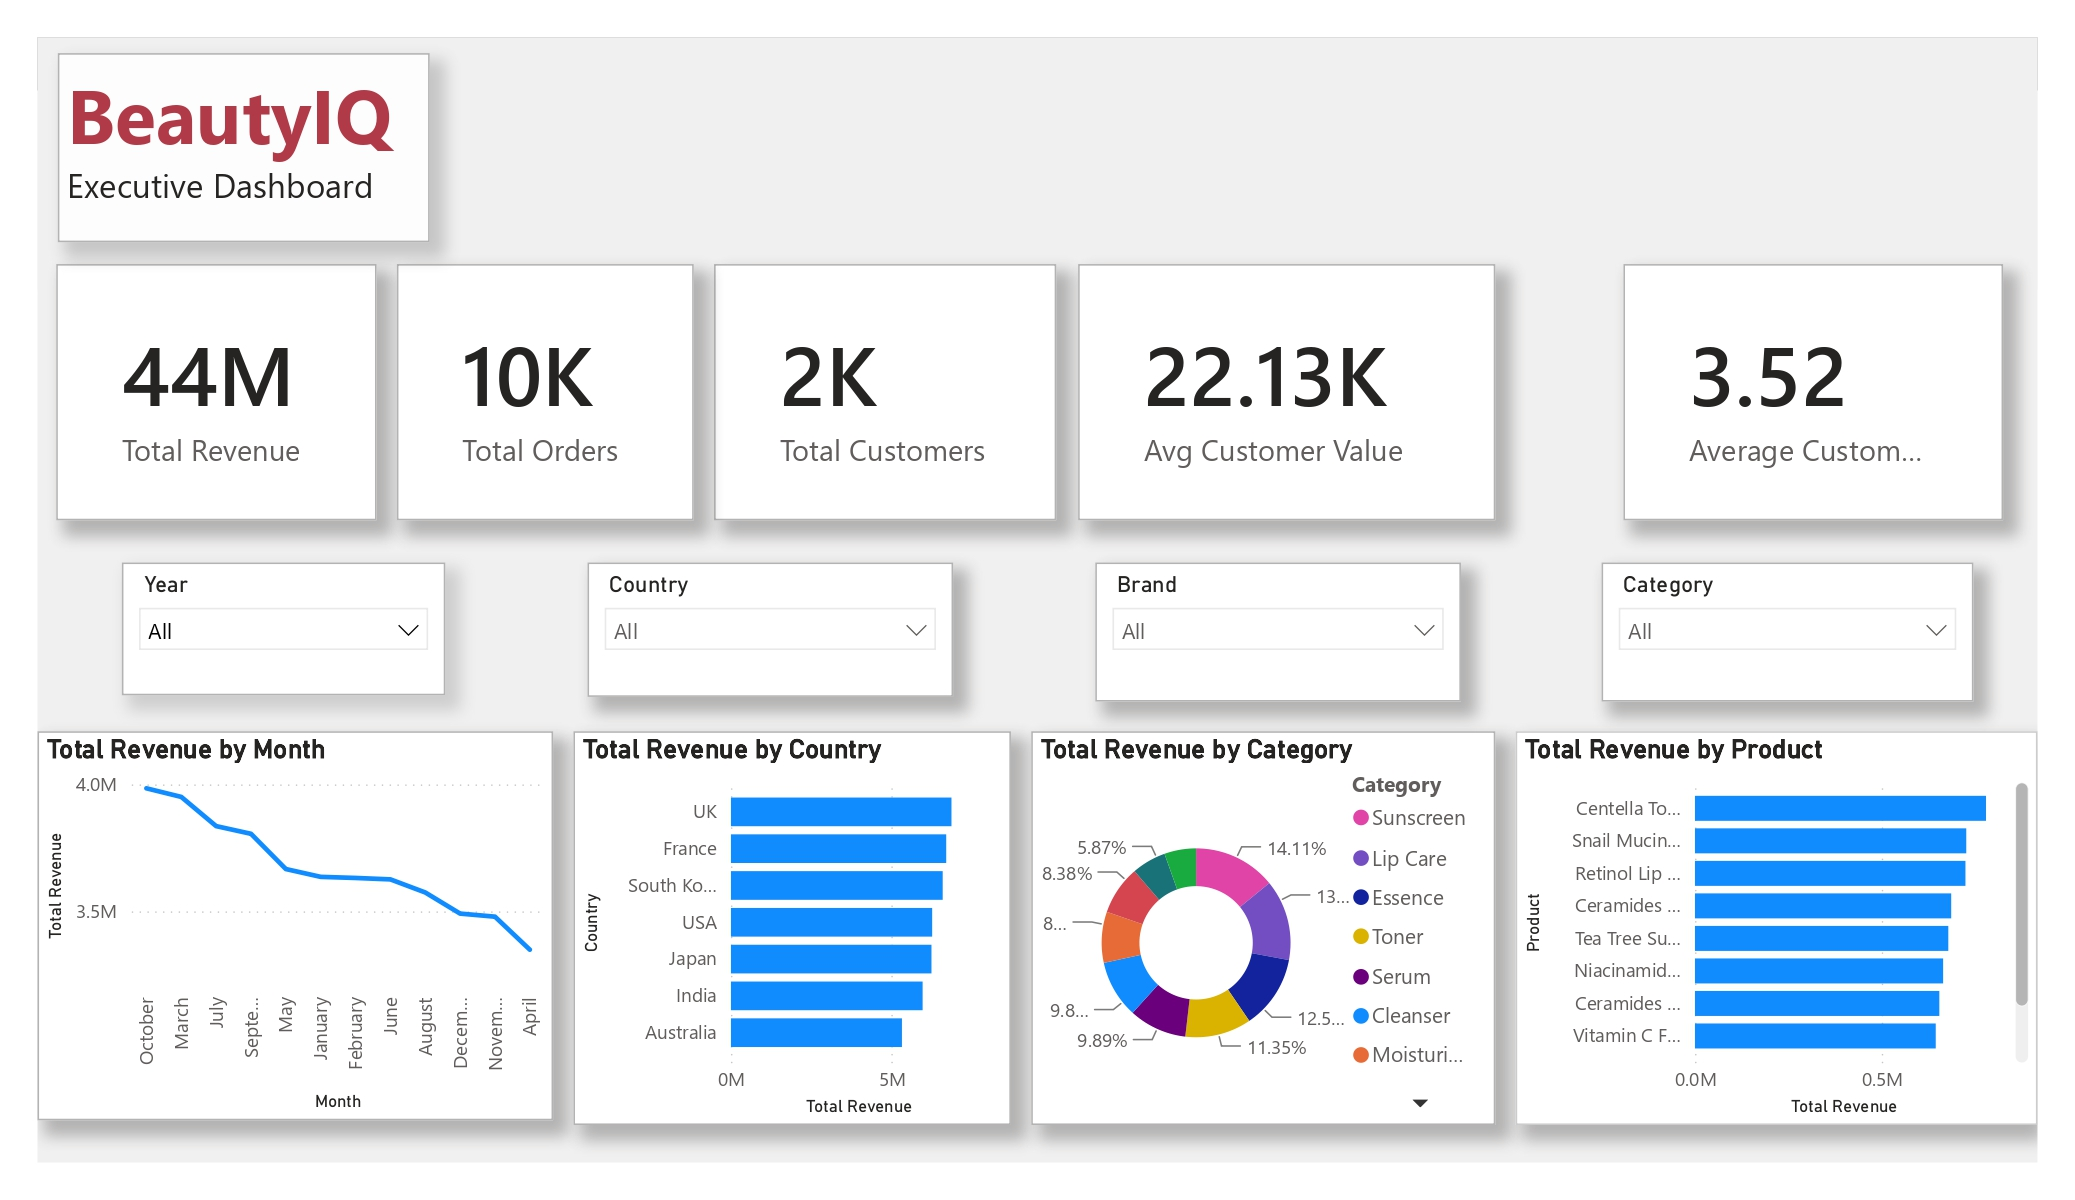

The page's visual inventory and layout, read from the dashboard file:
{"tool":"powerbi","page":{"name":"Executive Dashboard","canvas":[1280,720],"ordinal":0},"visuals":[{"type":"cardVisual","fields":{"Data":["FactSales.Total Revenue"]},"box":[12.3,145.5,204.5,163.3],"z":0},{"type":"cardVisual","fields":{"Data":["FactSales.Total Customers"]},"box":[432.9,145.5,219.6,163.3],"z":1000},{"type":"cardVisual","fields":{"Data":["DimBrand.Average Revenue per Customer"]},"box":[665.5,145.5,267.6,163.3],"z":2000},{"type":"cardVisual","fields":{"Data":["FactReviews.Average Rating"]},"box":[1015.4,145.5,242.9,163.3],"z":3000},{"type":"cardVisual","fields":{"Data":["FactSales.Total Orders"]},"box":[229.5,145.5,190.7,163.3],"z":4000},{"type":"textbox","box":[12.9,10,238.6,121.4],"z":5000},{"type":"lineChart","fields":{"Y":["FactSales.Total Revenue"],"Category":["DimDate.Month"]},"box":[0,444.3,330,248.6],"z":6000},{"type":"clusteredBarChart","fields":{"Category":["DimCountry.Country"],"Y":["FactSales.Total Revenue"]},"box":[342.9,444.3,280,251.4],"z":7000},{"type":"donutChart","fields":{"Category":["DimProduct.Category"],"Y":["FactSales.Total Revenue"]},"box":[635.7,444.3,297.1,251.4],"z":8000},{"type":"clusteredBarChart","fields":{"Category":["DimProduct.Product"],"Y":["FactSales.Total Revenue"]},"box":[945.7,444.3,334.3,251.4],"z":9000},{"type":"slicer","fields":{"Values":["DimDate.Year"]},"box":[54.3,336.3,207.1,84.3],"z":10000},{"type":"slicer","fields":{"Values":["DimCountry.Country"]},"box":[351.9,336.3,234.3,85.7],"z":11000},{"type":"slicer","fields":{"Values":["DimBrand.Brand"]},"box":[676.7,336.3,234.3,88.6],"z":12000},{"type":"slicer","fields":{"Values":["DimProduct.Category"]},"box":[1001.4,336.3,237.1,88.6],"z":13000}]}

Visuals, with their boxes on the page's 1280x720 design canvas (x1, y1, x2, y2). These are canvas units, not pixel positions in the 2075x1200 screenshot, which may show the page scaled, cropped or inside an application window:
cardVisual - FactSales.Total Revenue: bbox=[12, 146, 217, 309]
cardVisual - FactSales.Total Customers: bbox=[433, 146, 652, 309]
cardVisual - DimBrand.Average Revenue per Customer: bbox=[666, 146, 933, 309]
cardVisual - FactReviews.Average Rating: bbox=[1015, 146, 1258, 309]
cardVisual - FactSales.Total Orders: bbox=[230, 146, 420, 309]
textbox: bbox=[13, 10, 252, 131]
lineChart - FactSales.Total Revenue x DimDate.Month: bbox=[0, 444, 330, 693]
clusteredBarChart - DimCountry.Country x FactSales.Total Revenue: bbox=[343, 444, 623, 696]
donutChart - DimProduct.Category x FactSales.Total Revenue: bbox=[636, 444, 933, 696]
clusteredBarChart - DimProduct.Product x FactSales.Total Revenue: bbox=[946, 444, 1280, 696]
slicer - DimDate.Year: bbox=[54, 336, 261, 421]
slicer - DimCountry.Country: bbox=[352, 336, 586, 422]
slicer - DimBrand.Brand: bbox=[677, 336, 911, 425]
slicer - DimProduct.Category: bbox=[1001, 336, 1238, 425]
